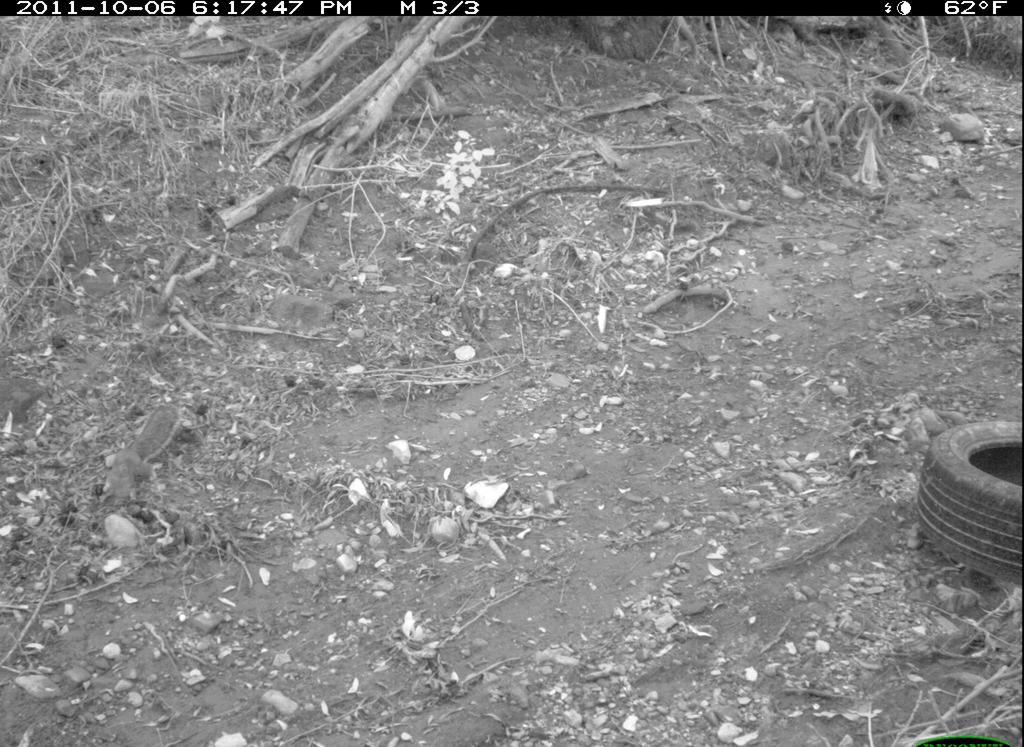squirrel: (95, 396, 189, 518)
